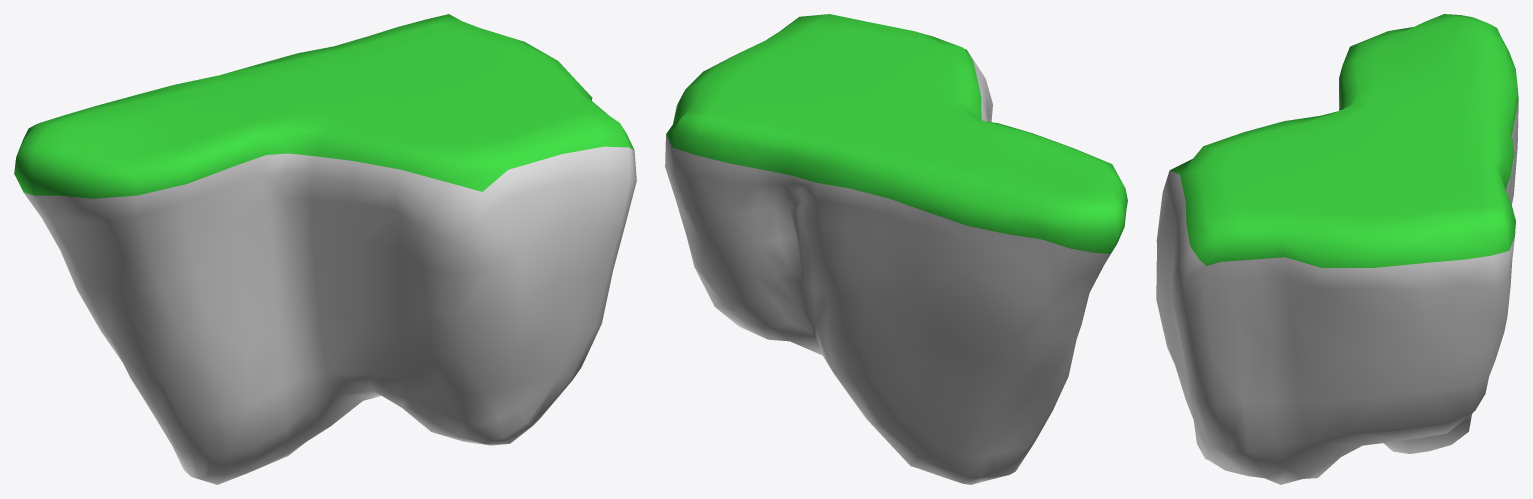
Rendered from platform_end_r_02.fbx.
3 views of the same model, side by side, from view 1: azimuth 30°, elevation 25°; view 2: azimuth 150°, elevation 25°; view 3: azimuth 270°, elevation 25° (orthographic). The views are drawn at different scales.
Visible parts, largest first — view 1: platform_central_04.002; view 2: platform_central_04.002; view 3: platform_central_04.002.
Boxes of the visible parts, x1,y1,x2,y2 form: platform_central_04.002: (14, 14, 636, 484); platform_central_04.002: (665, 14, 1127, 484); platform_central_04.002: (1156, 14, 1518, 484).
Size of the model in its own units: 20.14 by 13.85 by 12.97.
